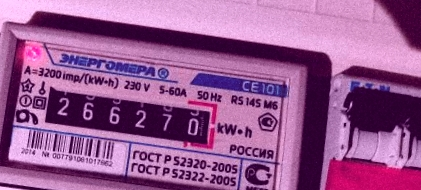0: (185, 114, 200, 137)
2: (54, 94, 71, 117), (132, 106, 147, 129)
6: (80, 100, 96, 121), (106, 103, 121, 124)
7: (157, 110, 173, 133)
screen: (33, 73, 226, 157)
